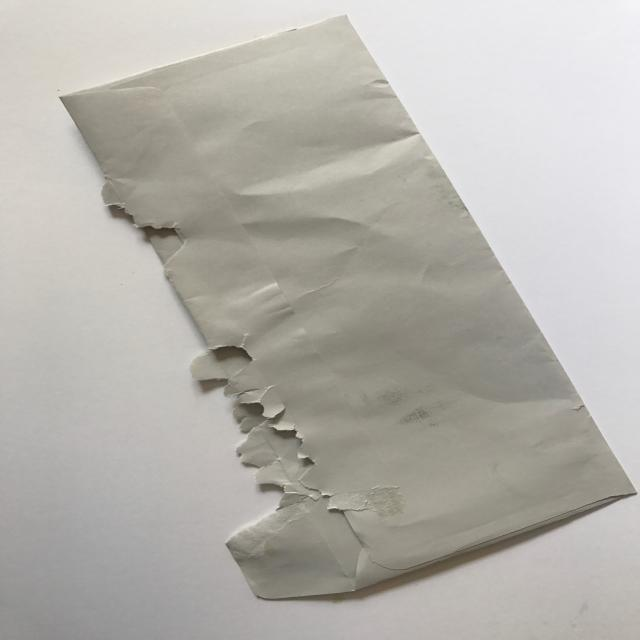paper: (56, 14, 636, 600)
